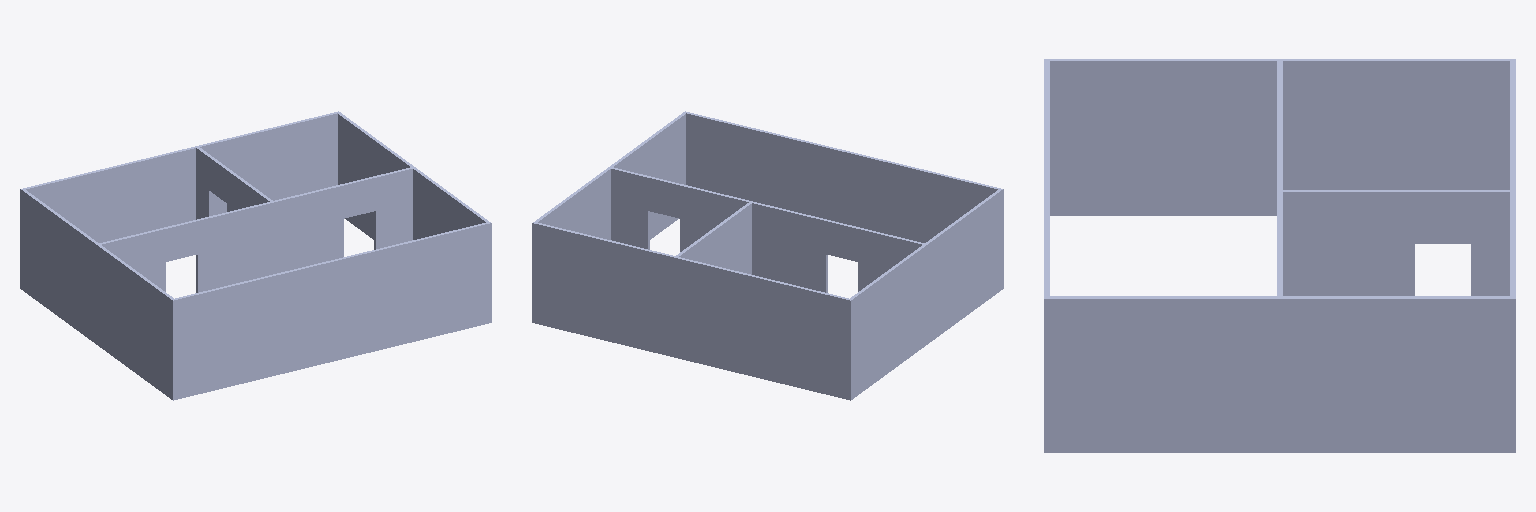
URDF robot description (flat_urdf2):
<?xml version="1.0" encoding="utf-8"?>
<!-- This URDF was automatically created by SolidWorks to URDF Exporter! Originally created by [author] ([email redacted]) 
     Commit Version: 1.5.1-0-g916b5db  Build Version: 1.5.7152.31018
     For more information, please see http://wiki.ros.org/sw_urdf_exporter -->
<robot
  name="flat_urdf2">
  <link
    name="base_link">
    <inertial>
      <origin
        xyz="0 0 0"
        rpy="0 0 0" />
      <mass
        value="0" />
      <inertia
        ixx="0"
        ixy="0"
        ixz="0"
        iyy="0"
        iyz="0"
        izz="0" />
    </inertial>
    <visual>
      <origin
        xyz="0 0 0"
        rpy="0 0 0" />
      <geometry>
        <mesh
          filename="base_link.STL" />
      </geometry>
      <material
        name="">
        <color
          rgba="0.79216 0.81961 0.93333 1" />
      </material>
    </visual>
    <collision>
      <origin
        xyz="0 0 0"
        rpy="0 0 0" />
      <geometry>
        <mesh
          filename="base_link.STL" />
      </geometry>
    </collision>
  </link>
  <link
    name="center_wall">
    <inertial>
      <origin
        xyz="4.9311 -1.4231 0.05"
        rpy="0 0 0" />
      <mass
        value="0" />
      <inertia
        ixx="0"
        ixy="0"
        ixz="0"
        iyy="0"
        iyz="0"
        izz="0" />
    </inertial>
    <visual>
      <origin
        xyz="0 0 0"
        rpy="0 0 0" />
      <geometry>
        <mesh
          filename="center_wall.STL" />
      </geometry>
      <material
        name="">
        <color
          rgba="0.79216 0.81961 0.93333 1" />
      </material>
    </visual>
    <collision>
      <origin
        xyz="0 0 0"
        rpy="0 0 0" />
      <geometry>
        <mesh
          filename="center_wall.STL" />
      </geometry>
    </collision>
  </link>
  <joint
    name="joint_front_2_center"
    type="fixed">
    <origin
      xyz="0 4.2 3"
      rpy="1.5708 0 0" />
    <parent
      link="base_link" />
    <child
      link="center_wall" />
    <axis
      xyz="0 0 1" />
  </joint>
  <link
    name="room_wall">
    <inertial>
      <origin
        xyz="5 1.5 0.05"
        rpy="0 0 0" />
      <mass
        value="0" />
      <inertia
        ixx="0"
        ixy="0"
        ixz="0"
        iyy="0"
        iyz="0"
        izz="0" />
    </inertial>
    <visual>
      <origin
        xyz="0 0 0"
        rpy="0 0 0" />
      <geometry>
        <mesh
          filename="room_wall.STL" />
      </geometry>
      <material
        name="">
        <color
          rgba="0.79216 0.81961 0.93333 1" />
      </material>
    </visual>
    <collision>
      <origin
        xyz="0 0 0"
        rpy="0 0 0" />
      <geometry>
        <mesh
          filename="room_wall.STL" />
      </geometry>
    </collision>
  </link>
  <joint
    name="joint_front_2_room_wall"
    type="fixed">
    <origin
      xyz="0 8.3 0"
      rpy="1.5708 0 0" />
    <parent
      link="base_link" />
    <child
      link="room_wall" />
    <axis
      xyz="0 0 0" />
  </joint>
  <link
    name="left_wall">
    <inertial>
      <origin
        xyz="1.5 0.05 2"
        rpy="0 0 0" />
      <mass
        value="0" />
      <inertia
        ixx="0"
        ixy="0"
        ixz="0"
        iyy="0"
        iyz="0"
        izz="0" />
    </inertial>
    <visual>
      <origin
        xyz="0 0 0"
        rpy="0 0 0" />
      <geometry>
        <mesh
          filename="left_wall.STL" />
      </geometry>
      <material
        name="">
        <color
          rgba="0.79216 0.81961 0.93333 1" />
      </material>
    </visual>
    <collision>
      <origin
        xyz="0 0 0"
        rpy="0 0 0" />
      <geometry>
        <mesh
          filename="left_wall.STL" />
      </geometry>
    </collision>
  </link>
  <joint
    name="joint_front_2_left_wall"
    type="fixed">
    <origin
      xyz="0.1 4.1 0"
      rpy="1.5708 -1.5708 0" />
    <parent
      link="base_link" />
    <child
      link="left_wall" />
    <axis
      xyz="0 0 1" />
  </joint>
  <link
    name="right_wall">
    <inertial>
      <origin
        xyz="0.05 1.5 2.1"
        rpy="0 0 0" />
      <mass
        value="0" />
      <inertia
        ixx="0"
        ixy="0"
        ixz="0"
        iyy="0"
        iyz="0"
        izz="0" />
    </inertial>
    <visual>
      <origin
        xyz="0 0 0"
        rpy="0 0 0" />
      <geometry>
        <mesh
          filename="right_wall.STL" />
      </geometry>
      <material
        name="">
        <color
          rgba="0.79216 0.81961 0.93333 1" />
      </material>
    </visual>
    <collision>
      <origin
        xyz="0 0 0"
        rpy="0 0 0" />
      <geometry>
        <mesh
          filename="right_wall.STL" />
      </geometry>
    </collision>
  </link>
  <joint
    name="joint_front_2_right_wall"
    type="fixed">
    <origin
      xyz="9.9 4.2 0"
      rpy="1.5708 0 0" />
    <parent
      link="base_link" />
    <child
      link="right_wall" />
    <axis
      xyz="0 0 0" />
  </joint>
  <link
    name="room_side1">
    <inertial>
      <origin
        xyz="2.1 1.5 -0.05"
        rpy="0 0 0" />
      <mass
        value="0" />
      <inertia
        ixx="0"
        ixy="0"
        ixz="0"
        iyy="0"
        iyz="0"
        izz="0" />
    </inertial>
    <visual>
      <origin
        xyz="0 0 0"
        rpy="0 0 0" />
      <geometry>
        <mesh
          filename="room_side1.STL" />
      </geometry>
      <material
        name="">
        <color
          rgba="0.79216 0.81961 0.93333 1" />
      </material>
    </visual>
    <collision>
      <origin
        xyz="0 0 0"
        rpy="0 0 0" />
      <geometry>
        <mesh
          filename="room_side1.STL" />
      </geometry>
    </collision>
  </link>
  <joint
    name="joint_front_2_room_side1"
    type="fixed">
    <origin
      xyz="0 8.3 0"
      rpy="1.5708 0 -1.5708" />
    <parent
      link="base_link" />
    <child
      link="room_side1" />
    <axis
      xyz="0 0 0" />
  </joint>
  <link
    name="room_side2">
    <inertial>
      <origin
        xyz="-1.8351 -0.05 -1.6"
        rpy="0 0 0" />
      <mass
        value="0" />
      <inertia
        ixx="0"
        ixy="0"
        ixz="0"
        iyy="0"
        iyz="0"
        izz="0" />
    </inertial>
    <visual>
      <origin
        xyz="0 0 0"
        rpy="0 0 0" />
      <geometry>
        <mesh
          filename="room_side2.STL" />
      </geometry>
      <material
        name="">
        <color
          rgba="0.79216 0.81961 0.93333 1" />
      </material>
    </visual>
    <collision>
      <origin
        xyz="0 0 0"
        rpy="0 0 0" />
      <geometry>
        <mesh
          filename="room_side2.STL" />
      </geometry>
    </collision>
  </link>
  <joint
    name="joint_front_2_room_side2"
    type="fixed">
    <origin
      xyz="5.4677 4.2 0"
      rpy="3.1416 0 -1.5708" />
    <parent
      link="base_link" />
    <child
      link="room_side2" />
    <axis
      xyz="0 0 0" />
  </joint>
  <link
    name="room_side3">
    <inertial>
      <origin
        xyz="-2 1.5 -0.05"
        rpy="0 0 0" />
      <mass
        value="0" />
      <inertia
        ixx="0"
        ixy="0"
        ixz="0"
        iyy="0"
        iyz="0"
        izz="0" />
    </inertial>
    <visual>
      <origin
        xyz="0 0 0"
        rpy="0 0 0" />
      <geometry>
        <mesh
          filename="room_side3.STL" />
      </geometry>
      <material
        name="">
        <color
          rgba="0.79216 0.81961 0.93333 1" />
      </material>
    </visual>
    <collision>
      <origin
        xyz="0 0 0"
        rpy="0 0 0" />
      <geometry>
        <mesh
          filename="room_side3.STL" />
      </geometry>
    </collision>
  </link>
  <joint
    name="joint_front_2_room_side3"
    type="fixed">
    <origin
      xyz="9.9 4.2 0"
      rpy="1.5708 0 -1.5708" />
    <parent
      link="base_link" />
    <child
      link="room_side3" />
    <axis
      xyz="0 0 0" />
  </joint>
</robot>

--- Render facts (derived) ---
The picture shows the robot from 3 angles, left to right: view 1: azimuth 30°, elevation 25°; view 2: azimuth 150°, elevation 25°; view 3: azimuth 270°, elevation 25°; orthographic projection.
Robot: flat_urdf2 — 8 links, 7 joints (7 fixed); root link base_link; default pose: every joint at zero.
Visible links, largest first — view 1: base_link, center_wall, room_wall, room_side1, left_wall, room_side3, right_wall, room_side2; view 2: room_wall, base_link, center_wall, left_wall, room_side1, right_wall, room_side3, room_side2; view 3: left_wall, right_wall, room_side3, room_side1, room_side2, base_link, center_wall, room_wall.
Link boxes in pixels (bbox=[...]): base_link: bbox=[171, 222, 491, 400]; center_wall: bbox=[96, 167, 415, 344]; room_wall: bbox=[20, 111, 340, 289]; room_side1: bbox=[22, 190, 98, 343]; left_wall: bbox=[98, 245, 173, 398]; room_side3: bbox=[338, 113, 413, 239]; right_wall: bbox=[413, 168, 488, 239]; room_side2: bbox=[196, 147, 272, 219]; room_wall: bbox=[532, 222, 852, 400]; base_link: bbox=[683, 111, 1003, 289]; center_wall: bbox=[608, 167, 927, 344]; left_wall: bbox=[925, 190, 1001, 343]; room_side1: bbox=[850, 245, 925, 398]; right_wall: bbox=[610, 113, 685, 239]; room_side3: bbox=[535, 168, 610, 239]; room_side2: bbox=[676, 202, 751, 274]; left_wall: bbox=[1050, 59, 1276, 215]; right_wall: bbox=[1050, 296, 1276, 452]; room_side3: bbox=[1283, 296, 1509, 452]; room_side1: bbox=[1283, 59, 1509, 189]; room_side2: bbox=[1283, 190, 1509, 295]; base_link: bbox=[1044, 59, 1049, 452]; center_wall: bbox=[1277, 59, 1282, 452]; room_wall: bbox=[1510, 59, 1515, 452].
Bounding box of the posed robot: 10 × 8.3 × 3 m (x, y, z).
8 mesh visuals loaded from 8 distinct referenced files (8 binary STL).